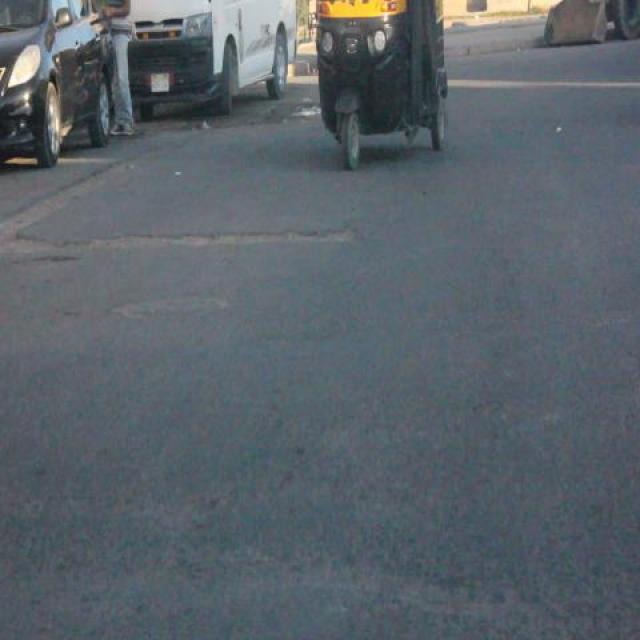Manhole: (102, 288, 222, 327)
Pothole: (16, 216, 359, 264)
Unmarked Bump: (0, 569, 640, 640)
